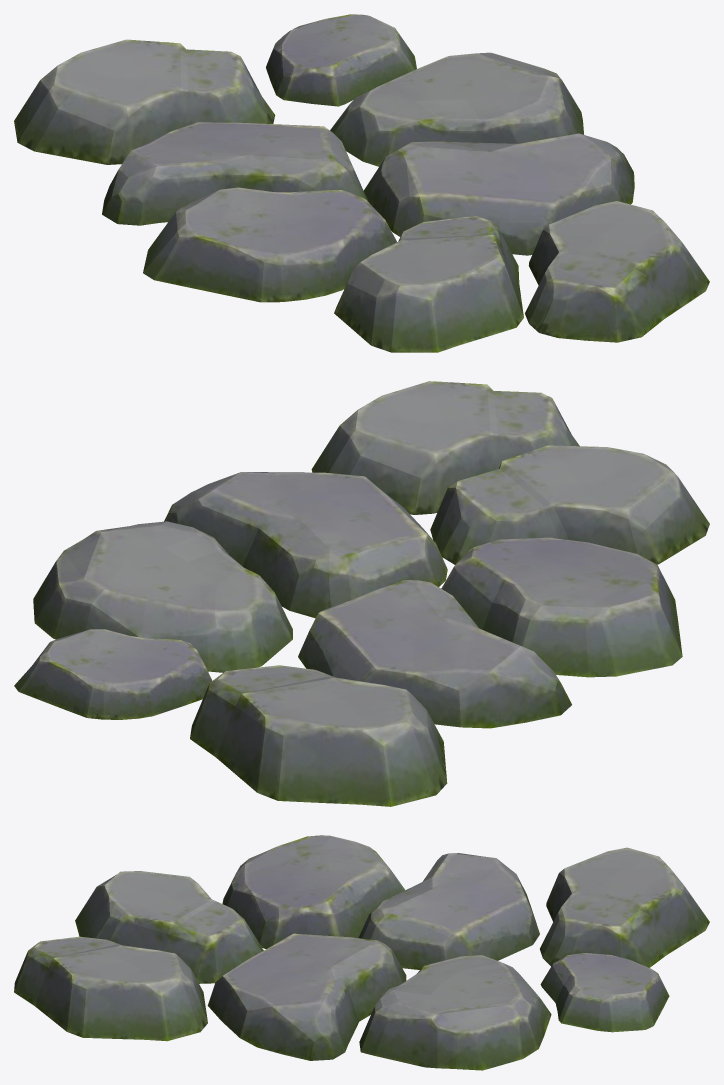
Rendered from RockPath_Round_Small_1.glb.
The picture shows the model from 3 angles, top to bottom: view 1: azimuth 30°, elevation 25°; view 2: azimuth 150°, elevation 25°; view 3: azimuth 270°, elevation 25°; orthographic projection. The views are drawn at different scales.
Size of the model in its own units: 1.06 by 0.1128 by 1.48.
1 material, 1 textured.
